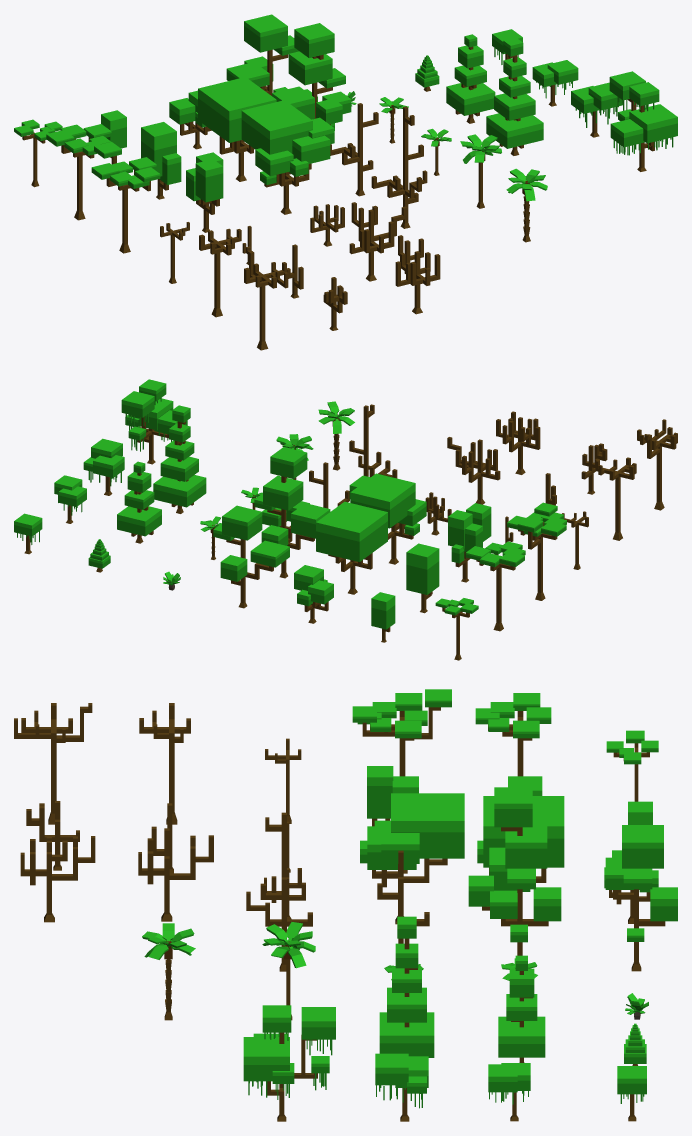
File: all trees.fbx
3 views of the same model, one above another, from view 1: azimuth 30°, elevation 25°; view 2: azimuth 150°, elevation 25°; view 3: azimuth 270°, elevation 25° (orthographic). The views are drawn at different scales.
Visible parts, largest first — view 1: forest6, forest8, cryingtree4, evergreen3, forest5, forest7, evergreen1, tall3, forest2, forest3, tall1, forest6(no leaves) (+17 smaller); view 2: forest8, forest5, forest7, forest6, evergreen3, cryingtree4, evergreen1, forest3, tall3, forest2, tall1, forest4 (+15 smaller); view 3: forest8, forest6, cryingtree4, evergreen3, forest7, tall3, evergreen1, forest5, tall1, cryingtree3, forest6(no leaves), forest3 (+12 smaller).
Boxes of the visible parts, <box> form: forest6: <box>241,100,334,214</box>; forest8: <box>272,23,351,130</box>; cryingtree4: <box>609,71,677,171</box>; evergreen3: <box>486,37,543,155</box>; forest5: <box>198,77,276,181</box>; forest7: <box>226,14,298,95</box>; evergreen1: <box>446,34,495,123</box>; tall3: <box>91,142,160,253</box>; forest2: <box>141,122,181,199</box>; forest3: <box>186,152,223,232</box>; tall1: <box>46,124,111,220</box>; forest6(no leaves): <box>395,235,440,314</box>; forest8: <box>254,447,330,578</box>; forest5: <box>316,501,387,594</box>; forest7: <box>213,505,289,608</box>; forest6: <box>349,473,426,564</box>; evergreen3: <box>153,405,206,513</box>; cryingtree4: <box>121,379,187,464</box>; evergreen1: <box>117,461,161,543</box>; forest3: <box>448,503,491,582</box>; tall3: <box>507,502,566,600</box>; forest2: <box>406,543,439,613</box>; tall1: <box>465,541,525,631</box>; forest4: <box>294,565,333,623</box>; forest8: <box>468,787,561,955</box>; forest6: <box>360,793,464,924</box>; cryingtree4: <box>243,1005,335,1121</box>; evergreen3: <box>379,916,434,1057</box>; forest7: <box>605,825,677,971</box>; tall3: <box>352,689,451,776</box>; evergreen1: <box>498,955,545,1062</box>; forest5: <box>477,796,564,882</box>; tall1: <box>475,693,551,776</box>; cryingtree3: <box>375,1053,428,1121</box>; forest6(no leaves): <box>20,836,95,922</box>; forest3: <box>367,766,418,873</box>.
Bounding box in the file's own units: 13402 × 3249 × 11360.
Materials: 1 (1 with a texture image).
